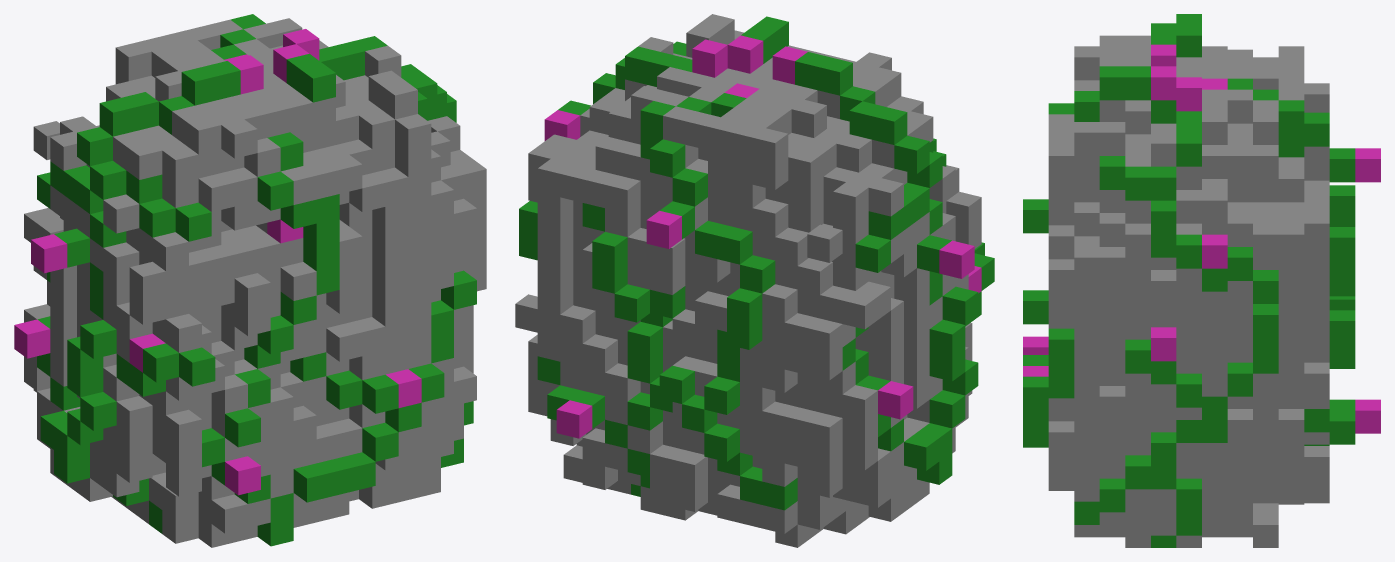
The model's file is mid.obj.
The picture shows the model from 3 angles, left to right: view 1: azimuth 30°, elevation 25°; view 2: azimuth 150°, elevation 25°; view 3: azimuth 270°, elevation 25°; orthographic projection. The views are drawn at different scales.
Size of the model in its own units: 18 by 18 by 14.
Materials: 1 (1 with a texture image).
